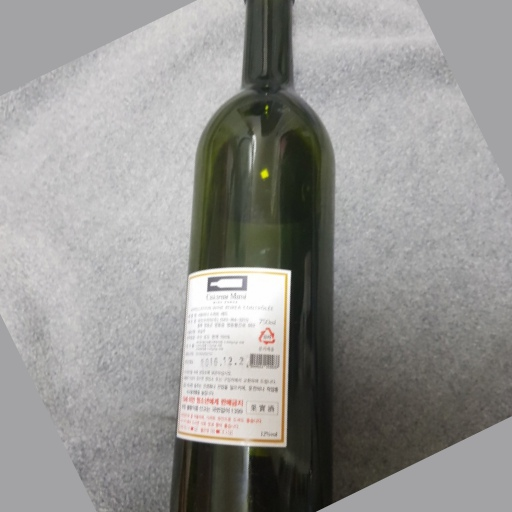Glass_2: (162, 1, 337, 512)
